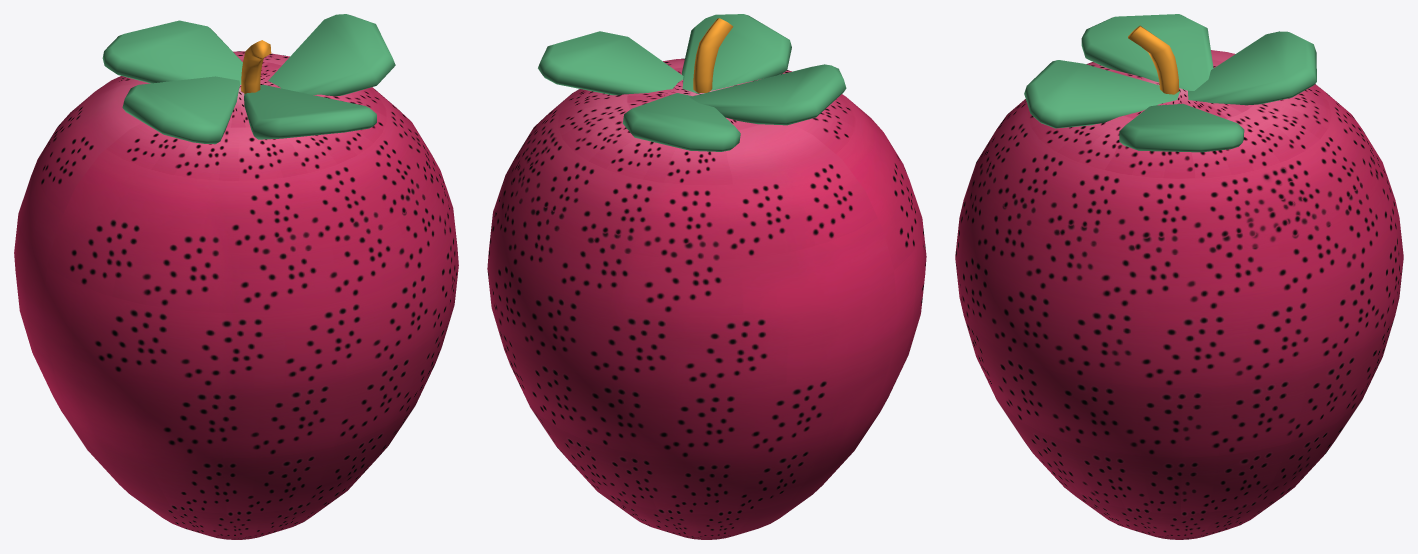
Rendered from Strawberry.fbx.
The picture shows the model from 3 angles, left to right: view 1: azimuth 30°, elevation 25°; view 2: azimuth 150°, elevation 25°; view 3: azimuth 270°, elevation 25°; orthographic projection.
Visible parts, largest first — view 1: Sphere, Cube, Cylinder; view 2: Sphere, Cube, Cylinder; view 3: Sphere, Cube, Cylinder.
Boxes of the visible parts, <box> form: Sphere: <box>14,51,458,539</box>; Cube: <box>102,14,395,144</box>; Cylinder: <box>241,40,271,93</box>; Sphere: <box>487,58,926,539</box>; Cube: <box>538,14,846,151</box>; Cylinder: <box>693,18,733,92</box>; Sphere: <box>955,50,1403,539</box>; Cube: <box>1024,14,1316,152</box>; Cylinder: <box>1128,25,1179,94</box>.
Size of the model in its own units: 200 by 249 by 200.
2 materials, 2 textured.
